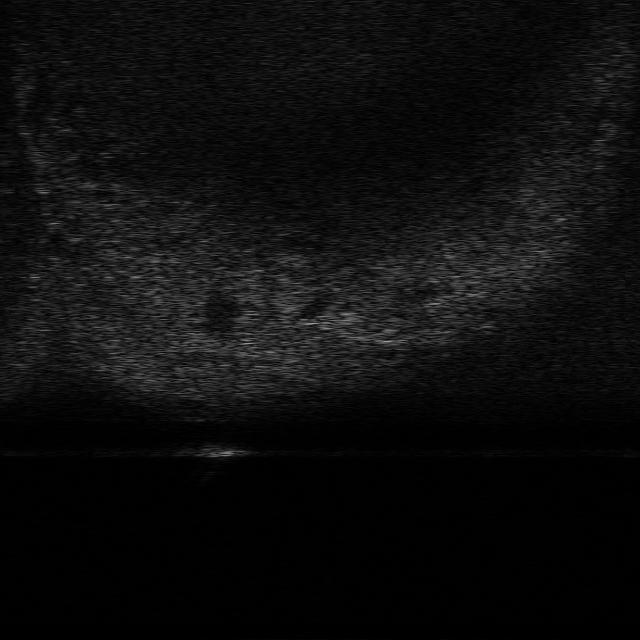cube: (176, 440, 252, 464)
